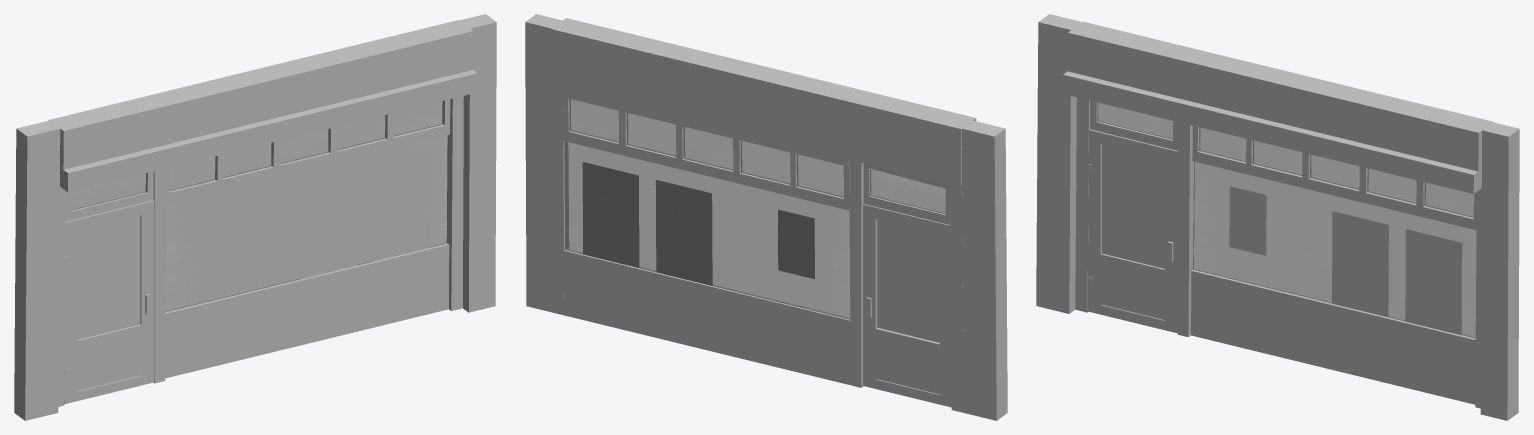
File: shop_05a.fbx
The picture shows the model from 3 angles, left to right: view 1: azimuth 30°, elevation 25°; view 2: azimuth 150°, elevation 25°; view 3: azimuth 330°, elevation 25°; orthographic projection.
Parts seen in each view (by area): view 1: shop_05a; view 2: shop_05a; view 3: shop_05a.
Part boxes in pixels (<box>): shop_05a: <box>14,14,496,420</box>; shop_05a: <box>525,14,1007,420</box>; shop_05a: <box>1036,14,1519,420</box>.
Bounding box in the file's own units: 5.3 × 3.05 × 0.3842.
